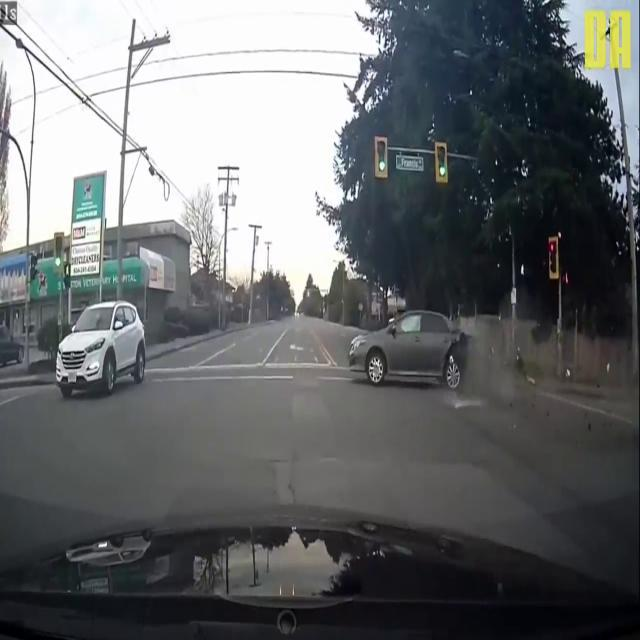normal: (59, 304, 164, 404)
single accident: (344, 270, 513, 416)
